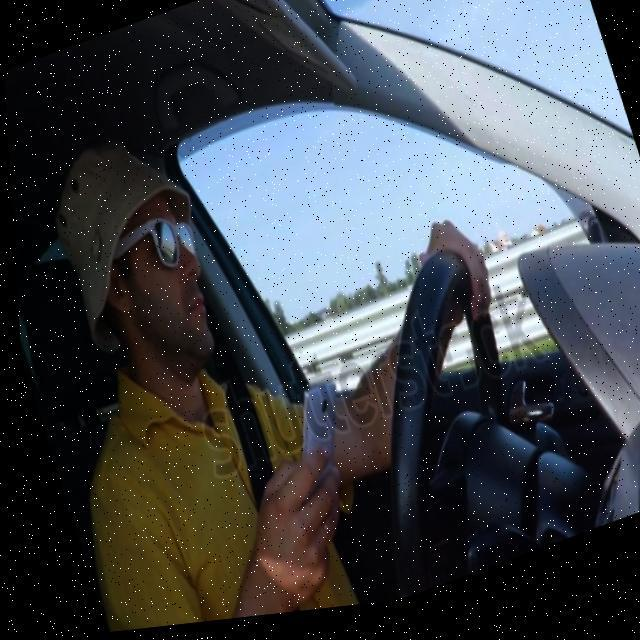PhoneCall: (279, 382, 358, 506)
